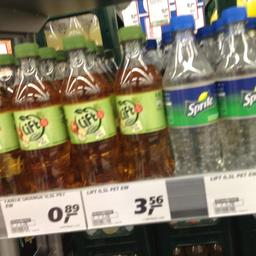soda: (162, 12, 220, 174), (10, 41, 71, 190), (111, 24, 170, 177), (58, 33, 116, 185), (214, 6, 255, 168)
